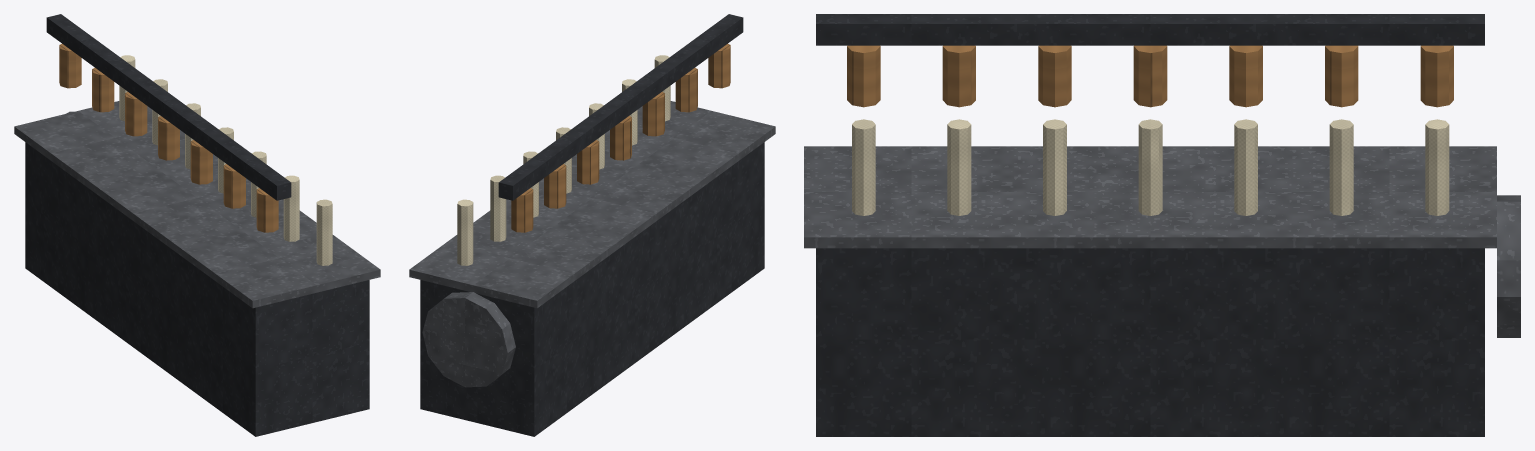
Rendered from przedzarka.glb.
3 views of the same model, side by side, from view 1: azimuth 30°, elevation 25°; view 2: azimuth 150°, elevation 25°; view 3: azimuth 270°, elevation 25° (orthographic). The views are drawn at different scales.
Parts seen in each view (by area): view 1: przedzarka; view 2: przedzarka; view 3: przedzarka.
Part boxes in pixels (bbox=[...]): przedzarka: bbox=[14, 14, 380, 436]; przedzarka: bbox=[409, 14, 775, 436]; przedzarka: bbox=[804, 14, 1520, 436].
Bounding box in the file's own units: 0.9 × 1.65 × 3.
Materials: 4 (4 with a texture image).
